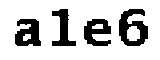1: (45, 5, 79, 49)
6: (119, 5, 153, 49)
a: (12, 19, 43, 49)
e: (83, 14, 116, 52)
